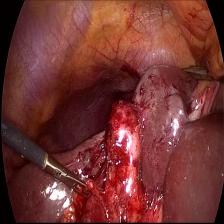Grasper: (42, 150, 92, 204)
